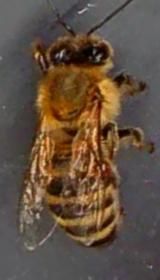varroa_mite: (88, 150, 119, 184)
